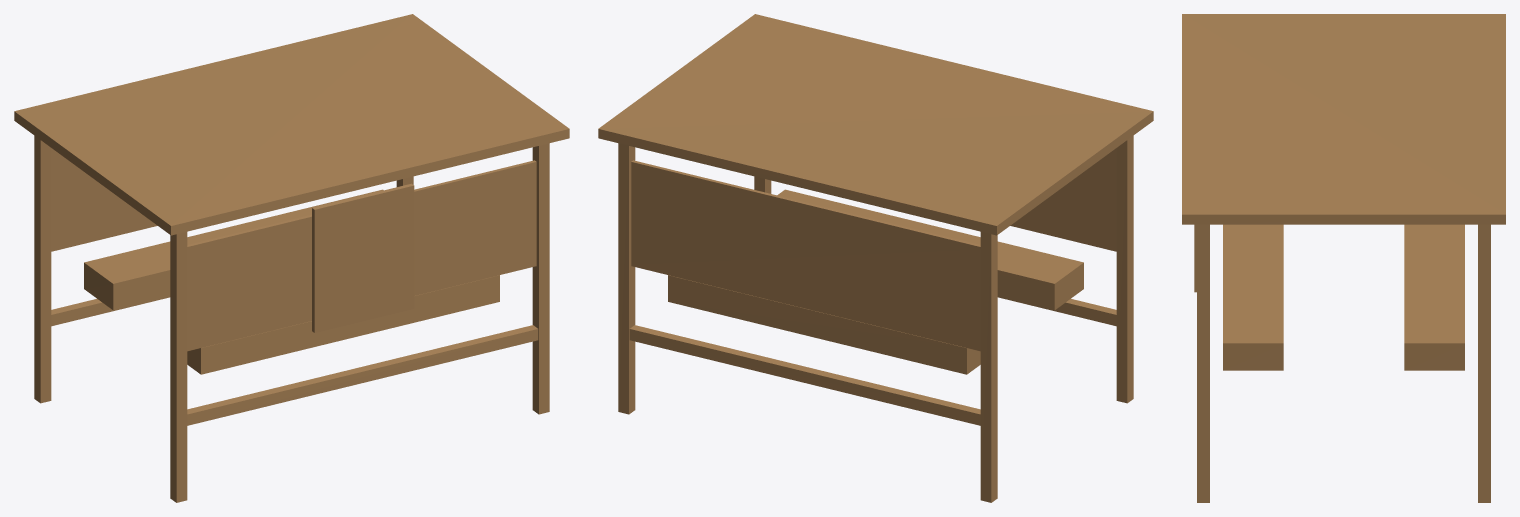
File: Shade-House.glb
The picture shows the model from 3 angles, left to right: view 1: azimuth 30°, elevation 25°; view 2: azimuth 150°, elevation 25°; view 3: azimuth 270°, elevation 25°; orthographic projection. The views are drawn at different scales.
Parts seen in each view (by area): view 1: wind-pump-static-shade-house-cloth-mat, wind-pump-static-shade-house-frame-mat, wind-pump-static-shade-house-bench-mat; view 2: wind-pump-static-shade-house-cloth-mat, wind-pump-static-shade-house-frame-mat, wind-pump-static-shade-house-bench-mat; view 3: wind-pump-static-shade-house-cloth-mat, wind-pump-static-shade-house-bench-mat, wind-pump-static-shade-house-frame-mat.
Boxes of the visible parts, x1,y1,x2,y2 form: wind-pump-static-shade-house-cloth-mat: (14,14,569,351); wind-pump-static-shade-house-frame-mat: (34,135,549,502); wind-pump-static-shade-house-bench-mat: (84,189,499,374); wind-pump-static-shade-house-cloth-mat: (598,14,1153,351); wind-pump-static-shade-house-frame-mat: (618,135,1133,502); wind-pump-static-shade-house-bench-mat: (668,189,1083,374); wind-pump-static-shade-house-cloth-mat: (1182,14,1505,292); wind-pump-static-shade-house-bench-mat: (1223,224,1464,370); wind-pump-static-shade-house-frame-mat: (1197,224,1490,502).
Size of the model in its own units: 2.2 by 1.51 by 1.5.
